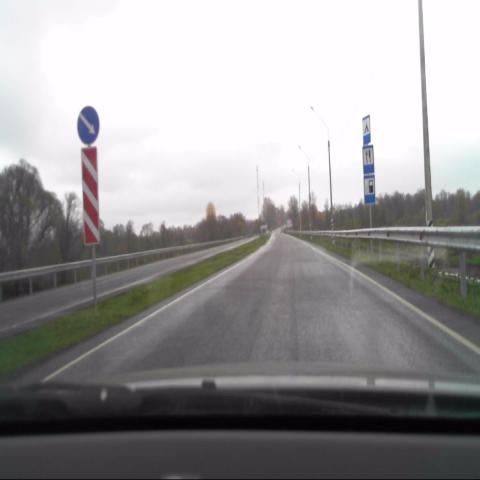7_7: (362, 147, 375, 173)
